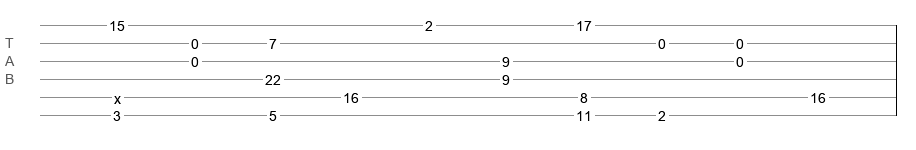0: (191, 54, 199, 64), (191, 36, 199, 46), (658, 36, 666, 46), (736, 54, 744, 64), (736, 36, 744, 46)
11: (576, 108, 592, 118)
15: (109, 18, 125, 28)
16: (343, 90, 359, 100), (810, 90, 826, 100)
17: (576, 18, 592, 28)
2: (425, 18, 433, 28), (658, 108, 666, 118)
22: (265, 72, 281, 82)
3: (113, 108, 121, 118)
5: (269, 108, 277, 118)
7: (269, 36, 277, 46)
8: (580, 90, 588, 100)
9: (502, 54, 510, 64), (502, 72, 510, 82)
x: (114, 91, 121, 99)
